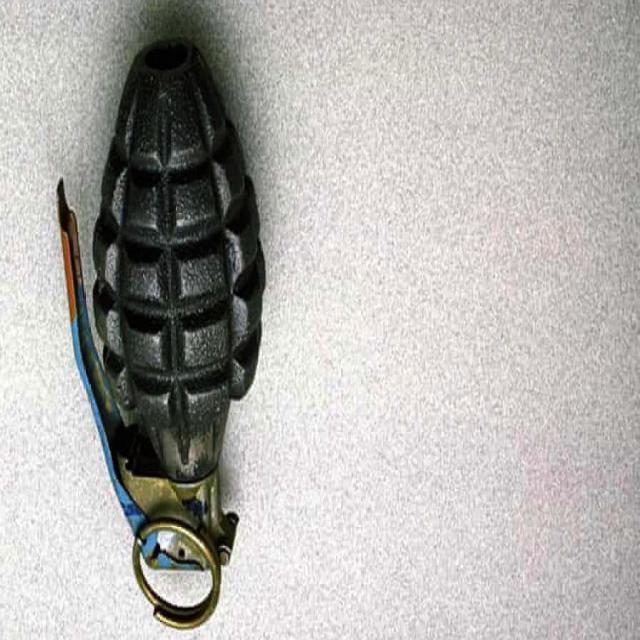grenade: (57, 37, 268, 633)
